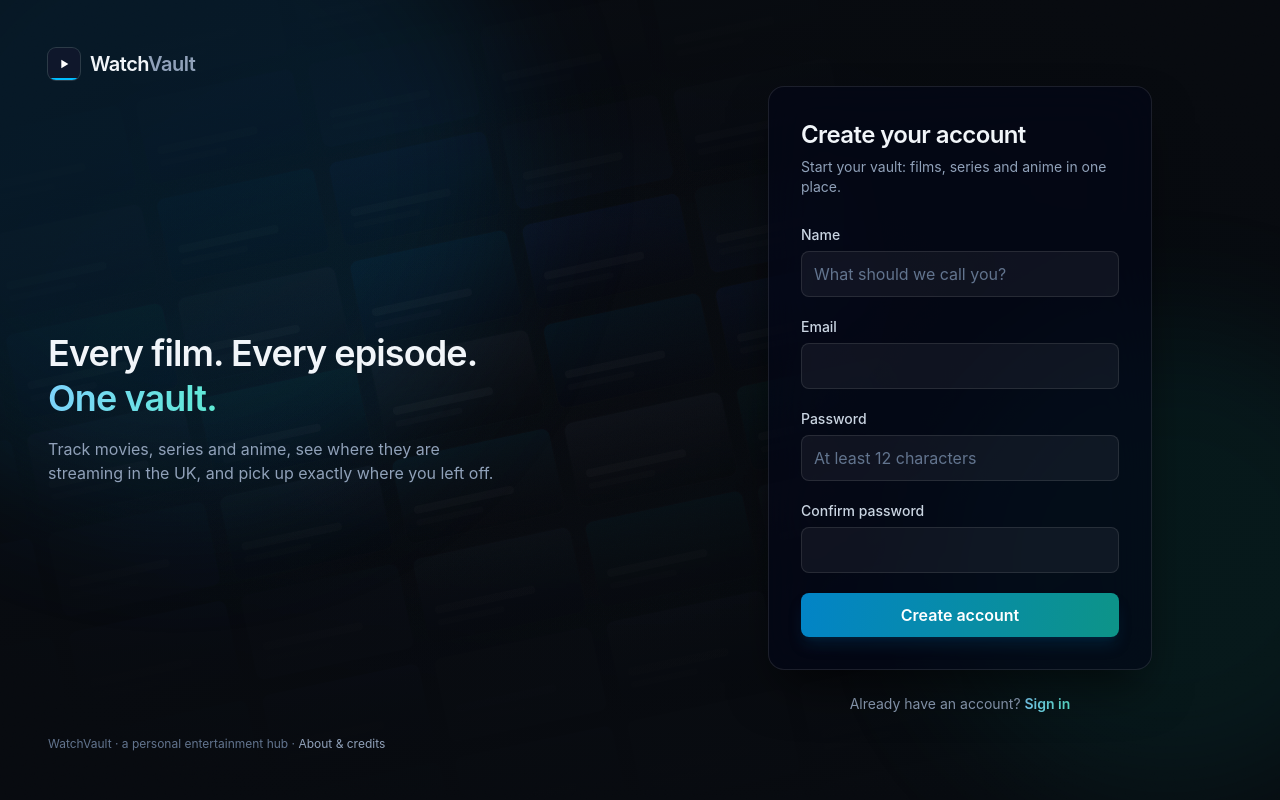
Scenario: register › shows a server field error under the right field
Type "New User" into the field labelled "Name".
click(960, 274); type("New User")  # box [801,251,1119,297]
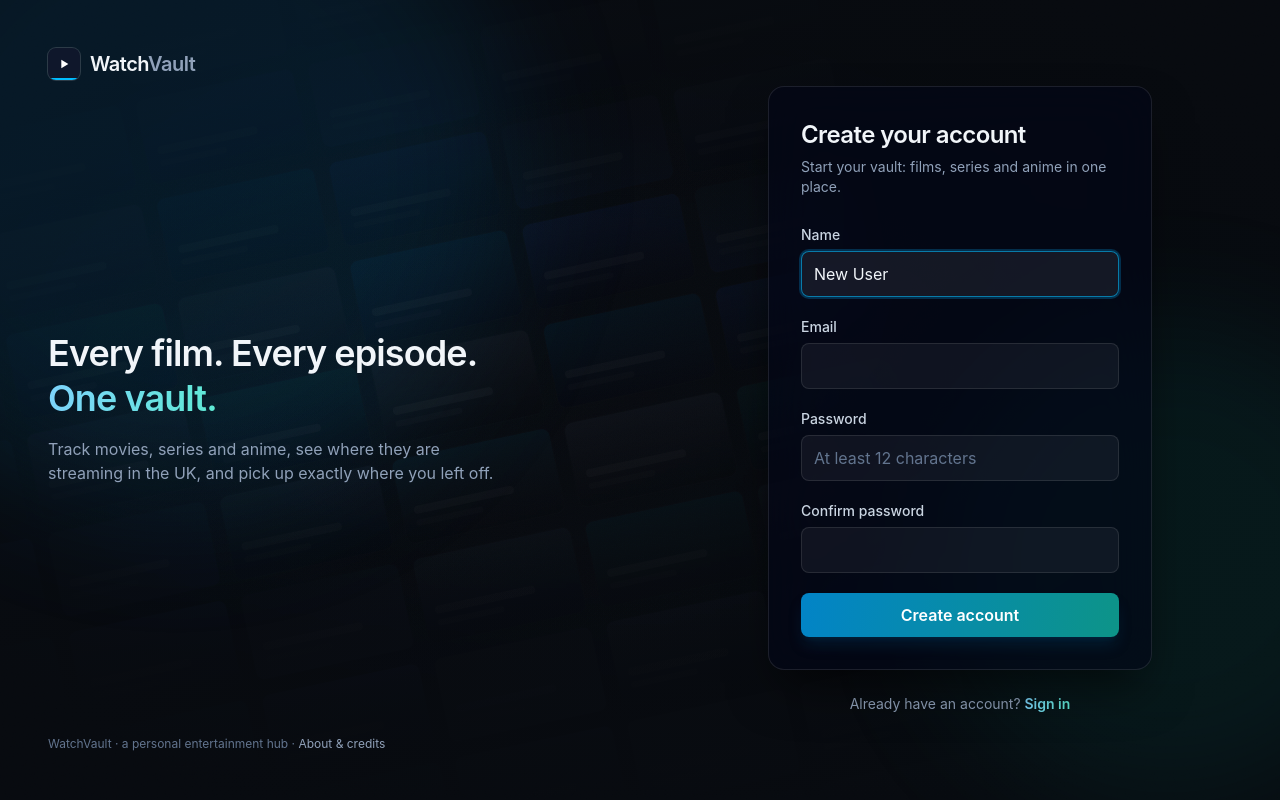
Type "new@example.com" into the field labelled "Email".
click(960, 366); type("new@example.com")  # box [801,343,1119,389]
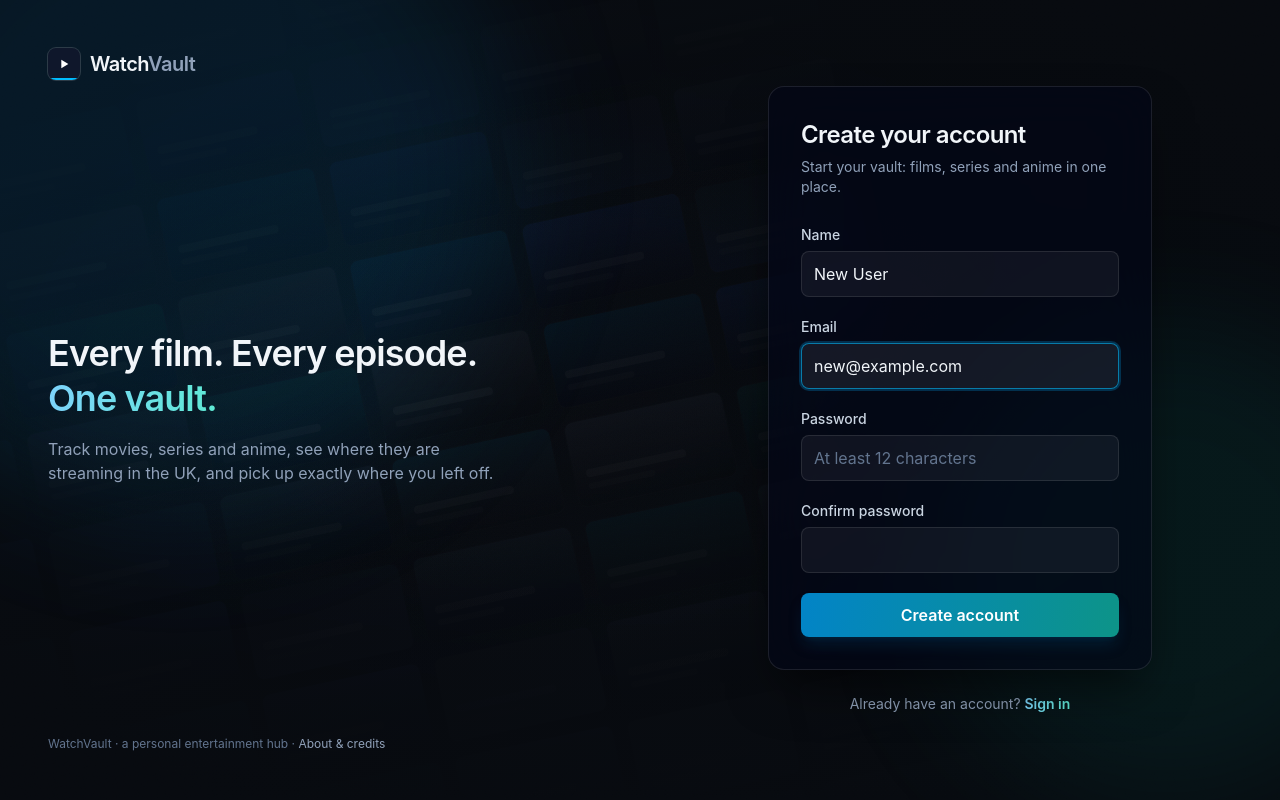
Type "correct horse battery" into the password field labelled "Password".
click(960, 458); type("correct horse battery")  # box [801,435,1119,481]
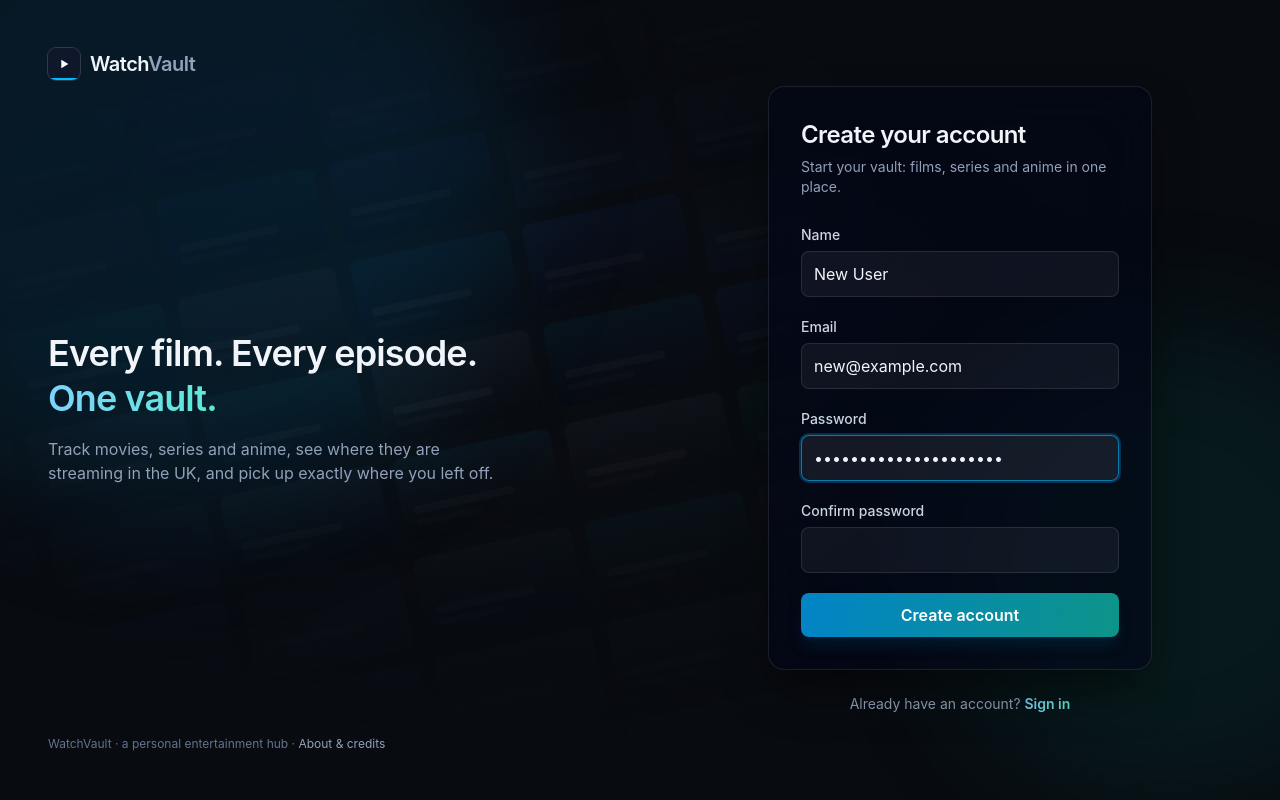
Type "correct horse battery" into the password field labelled "Confirm password".
click(960, 550); type("correct horse battery")  # box [801,527,1119,573]
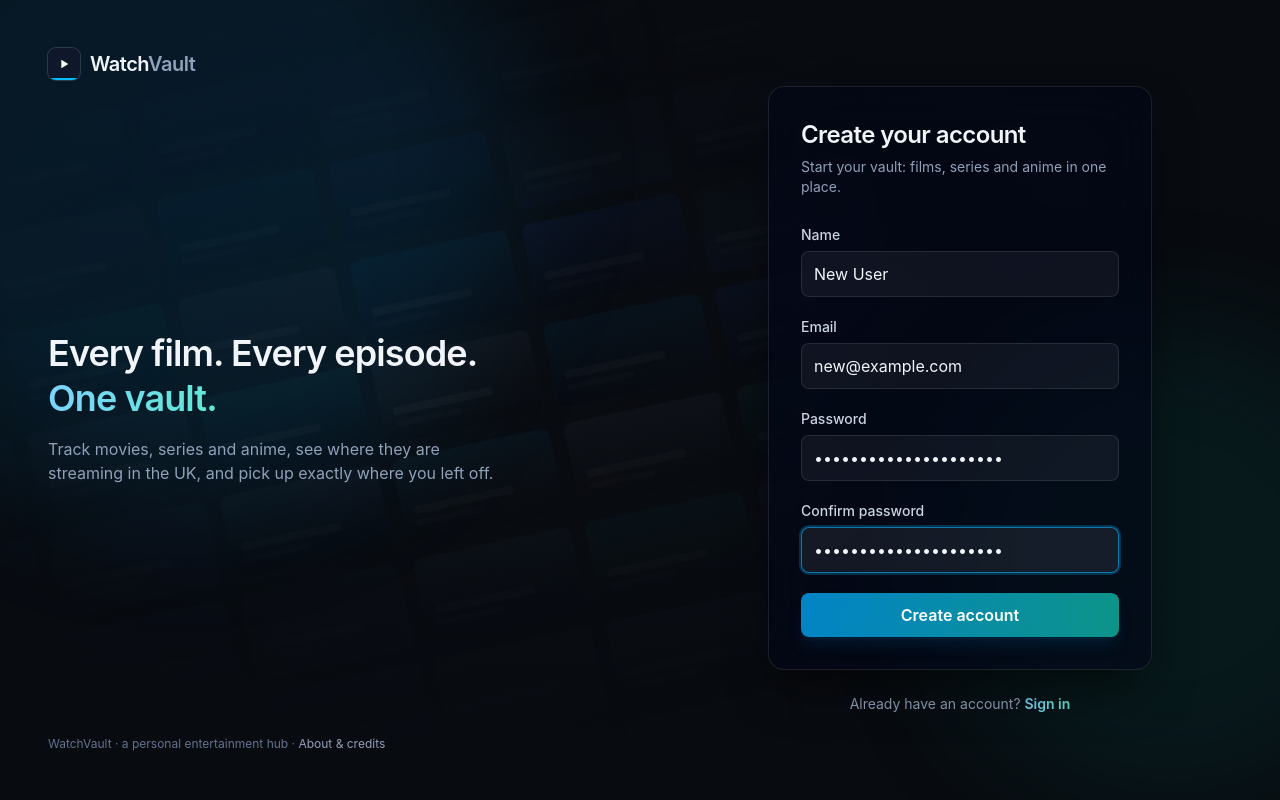
Click the button "Create account".
click(960, 615)  # box [801,593,1119,637]
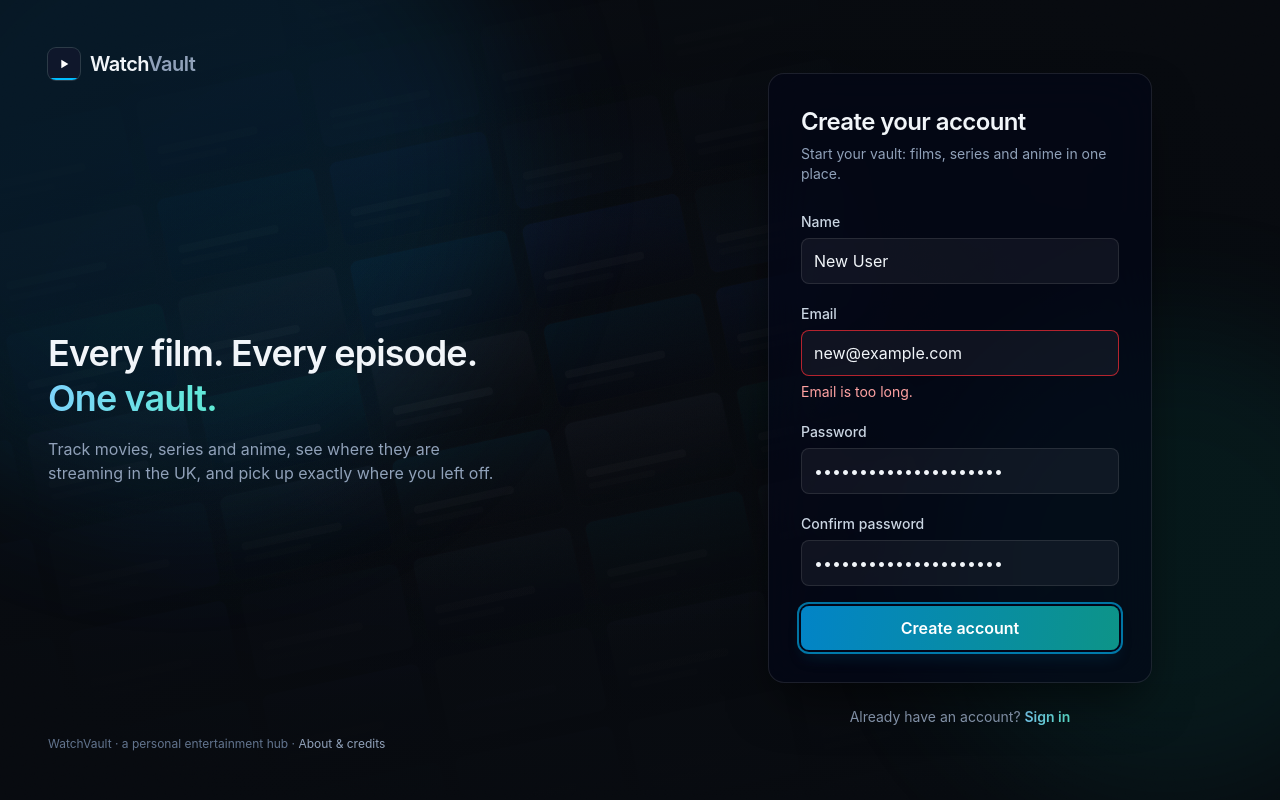
Expected: the text "Email is too long." is shown, [801,383,913,400]
